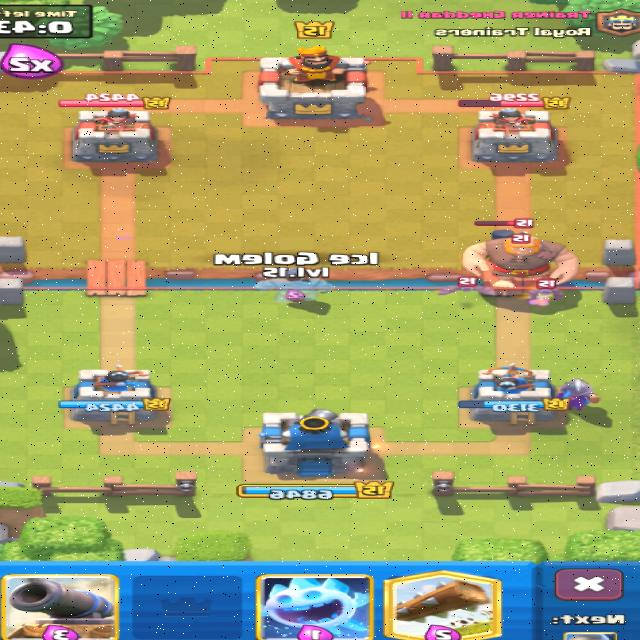Enemy-Bat: (440, 277, 494, 295), (531, 280, 563, 306)
Enemy-Giant: (463, 233, 579, 286)
Enemy-KingTower: (261, 46, 367, 118)
Enemy-NightWitch: (477, 218, 533, 238)
Enemy-PrincessTower: (73, 108, 158, 163), (474, 108, 556, 161)
Player-KingTower-Activated: (261, 409, 370, 477)
Player-Musketeer-Evo: (558, 379, 599, 410), (43, 396, 91, 411)
Player-PrincessTower: (459, 364, 567, 425), (73, 366, 159, 424)
